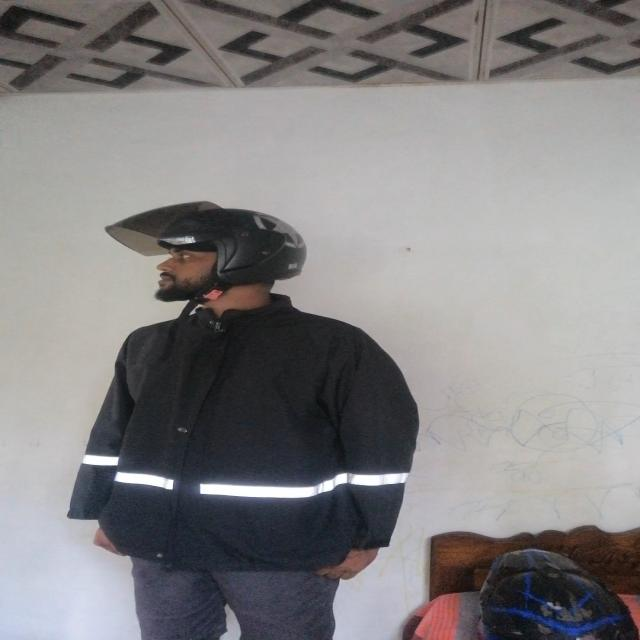Helmet_Wearer: (105, 197, 338, 316)
Jacket_Wearer: (89, 288, 422, 560)
Person: (62, 196, 391, 640)
